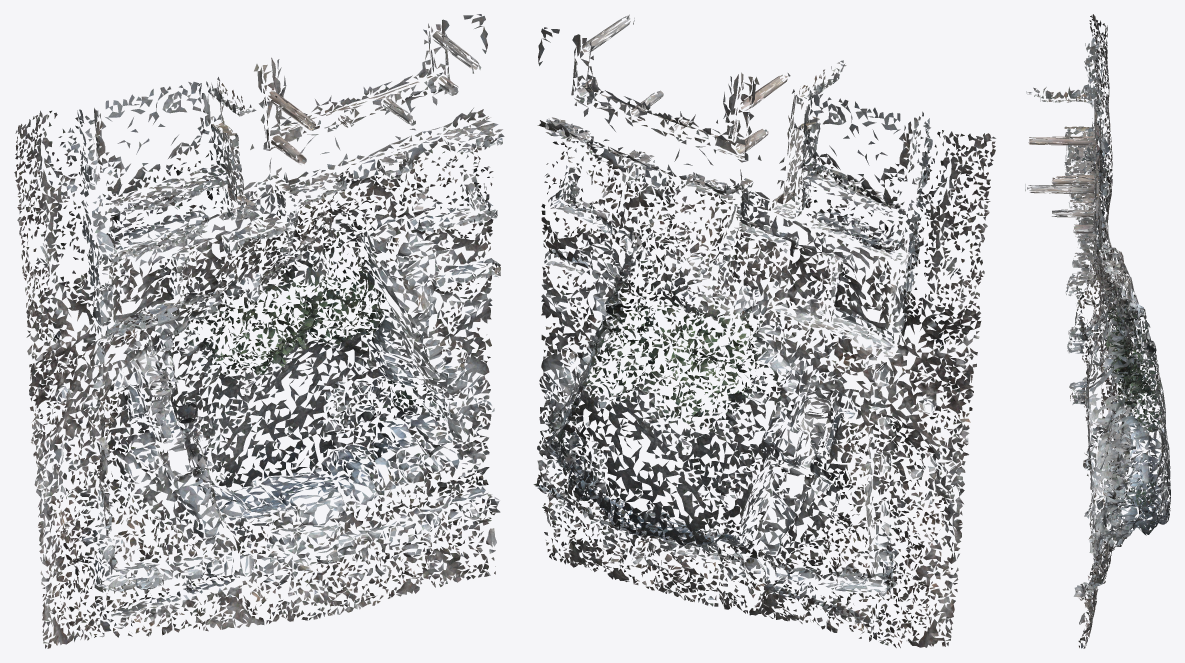
3 views of the same model, side by side, from view 1: azimuth 30°, elevation 25°; view 2: azimuth 150°, elevation 25°; view 3: azimuth 270°, elevation 25° (orthographic). The views are drawn at different scales.
Bounding box in the file's own units: 24.6 × 28.09 × 8.08.
1 material, 1 textured.
